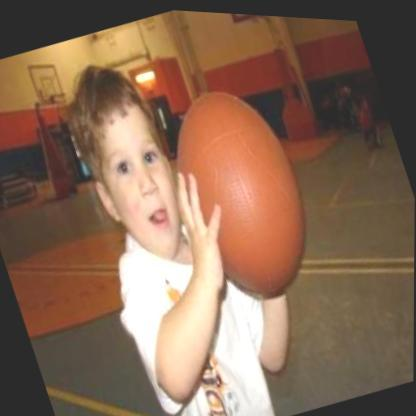basketball: (148, 62, 336, 319)
